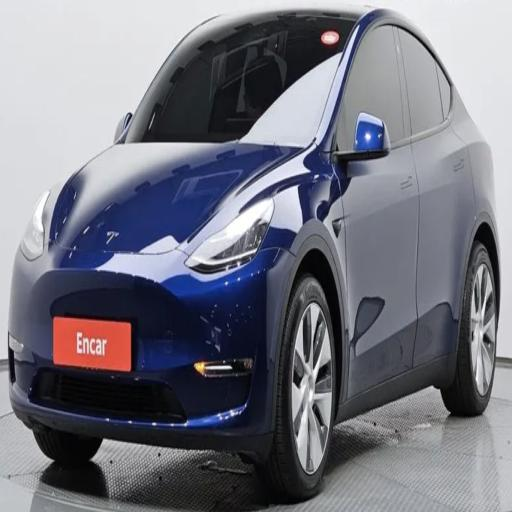normal: (10, 12, 511, 493)
